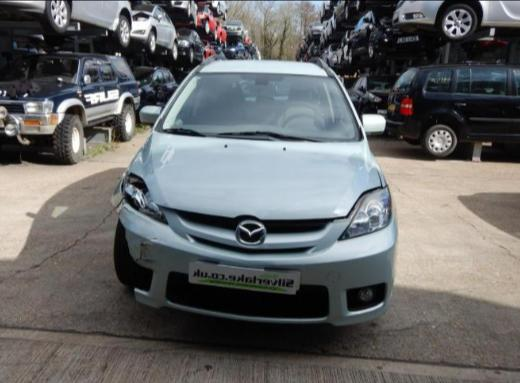Broken part: (113, 184, 398, 329), (121, 169, 170, 225)
Corrosion: (133, 238, 162, 263)
Missing part: (124, 255, 153, 292)
